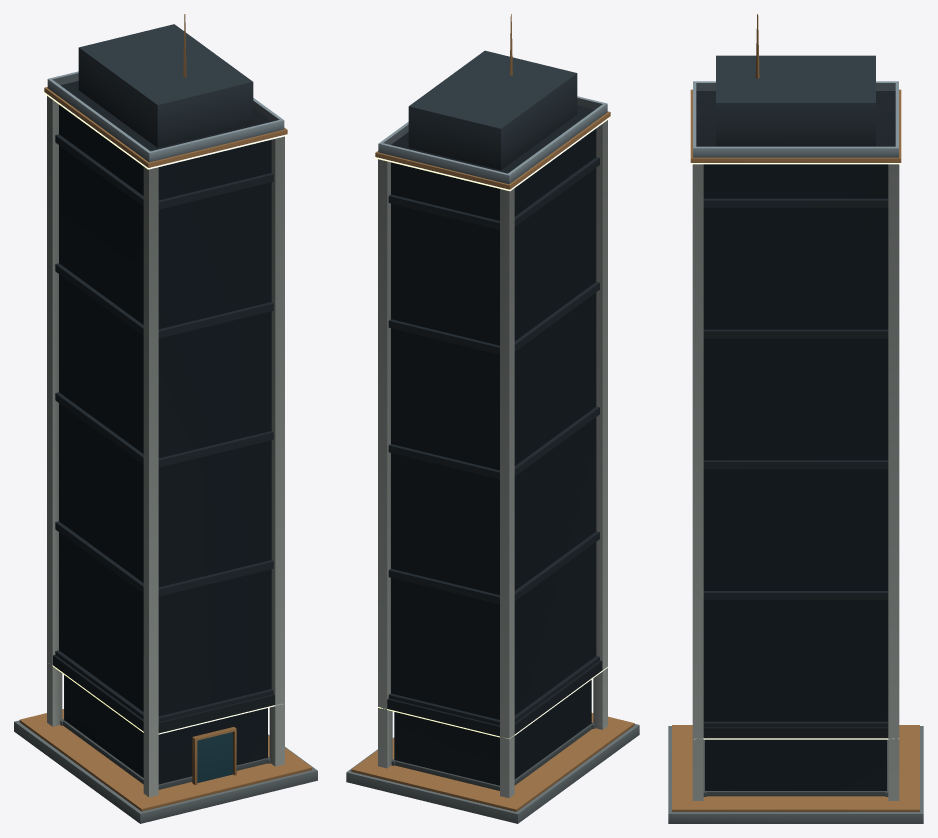
The model's file is data-tower-b.lod2.glb.
3 views of the same model, side by side, from view 1: azimuth 30°, elevation 25°; view 2: azimuth 150°, elevation 25°; view 3: azimuth 270°, elevation 25° (orthographic). The views are drawn at different scales.
Parts seen in each view (by area): view 1: structure; view 2: structure; view 3: structure.
Boxes of the visible parts, x1,y1,x2,y2 form: structure: (14, 14, 317, 823); structure: (346, 14, 639, 823); structure: (668, 14, 923, 823).
Bounding box in the file's own units: 13 × 52.89 × 16.
